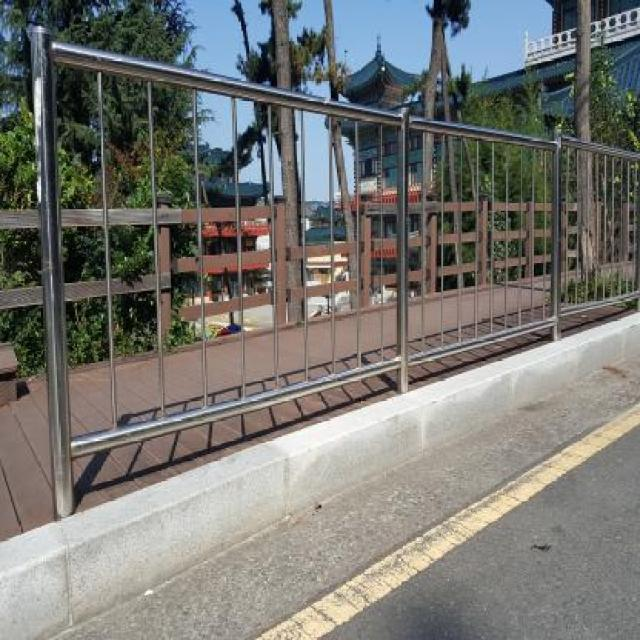fence: (34, 13, 406, 482), (376, 63, 582, 379), (541, 96, 640, 335)
